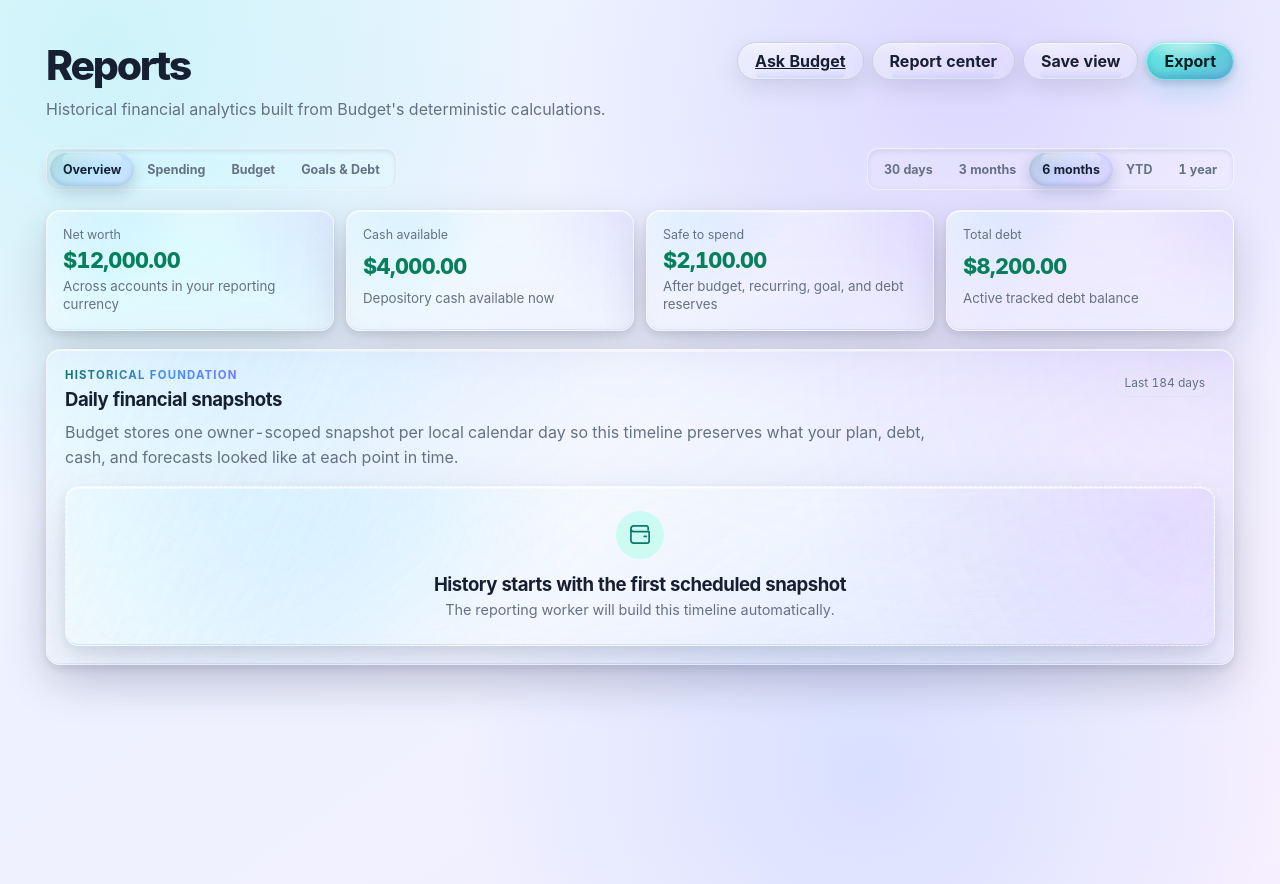
Scenario: ReportsPage › switches to annual budget performance
Click the button "Budget": (253, 169) [218,152,288,186]
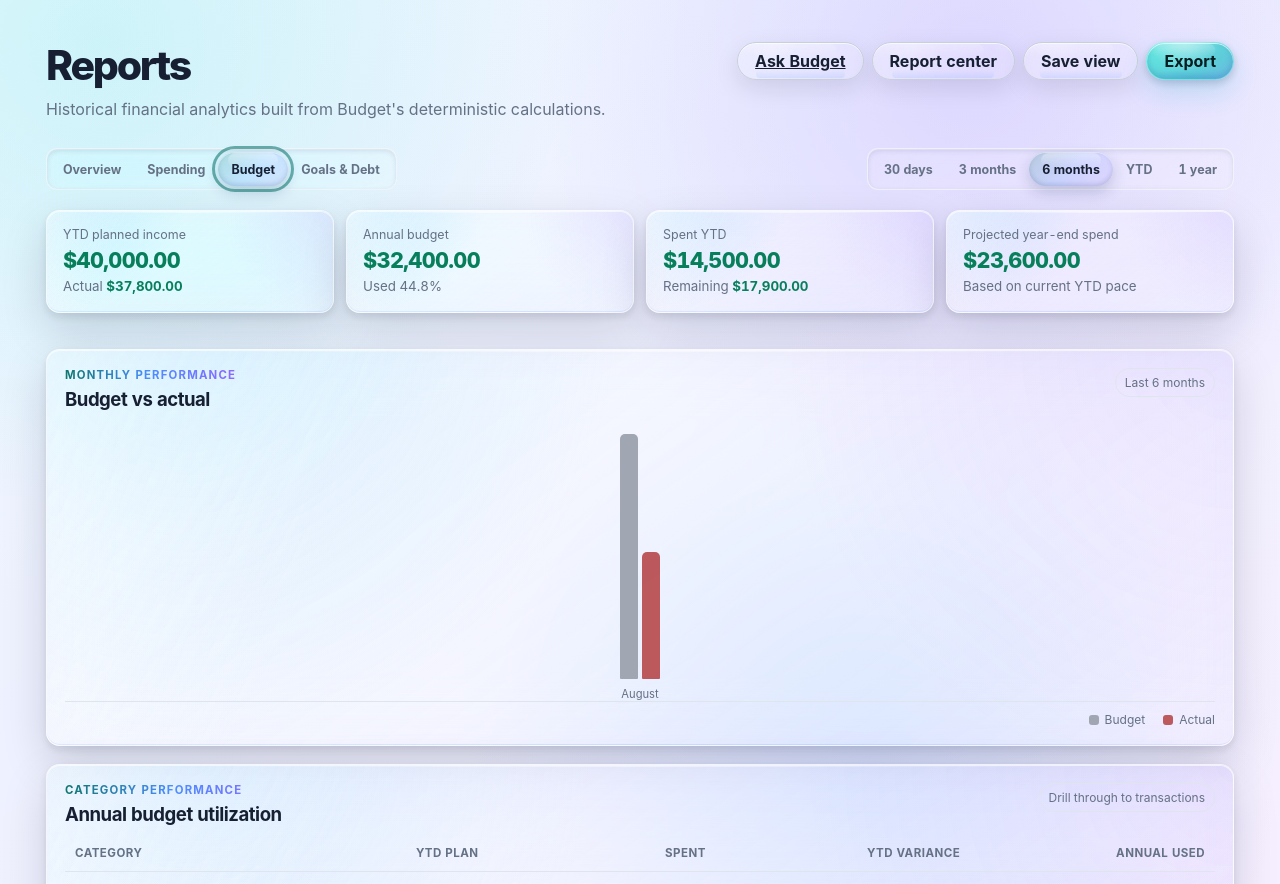
Check: the heading "Budget vs actual" is shown, box [65,388,210,410]
Check: the heading "Annual budget utilization" is shown, box [65,803,282,825]
Check: the text "$32,400.00" is shown, box [363,247,480,273]
